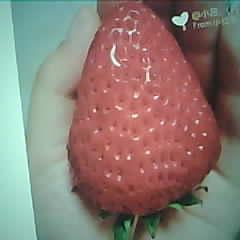straw-ripe: (67, 6, 220, 217)
